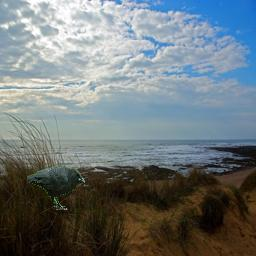Crow: (27, 166, 85, 211)
